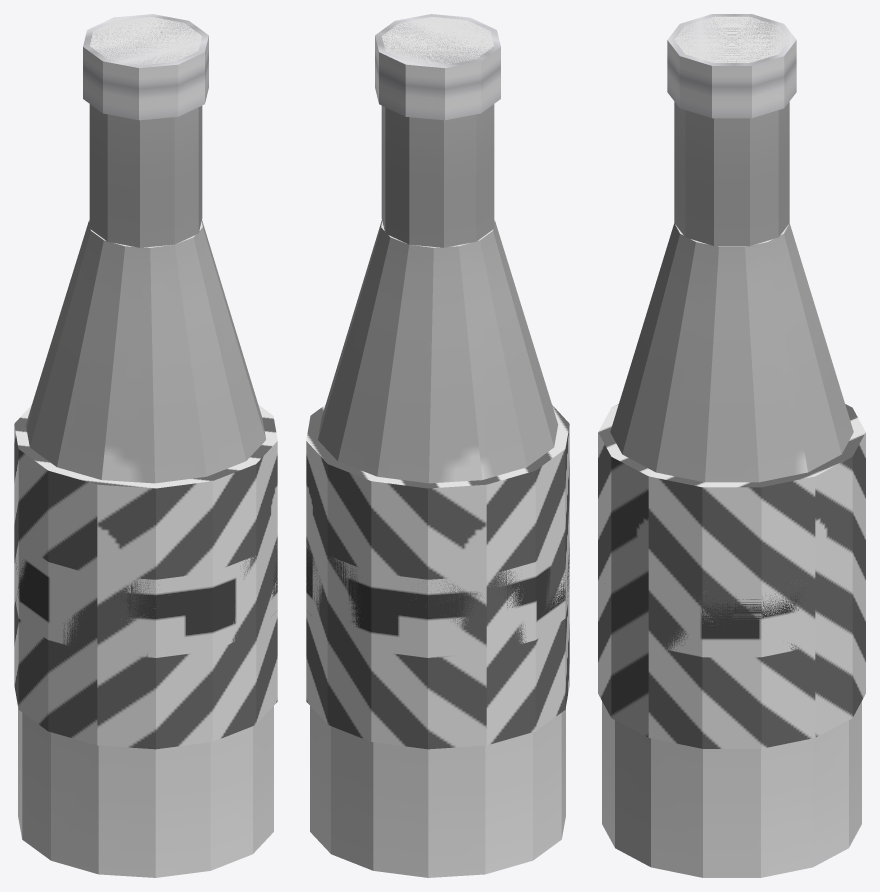
The model's file is amaro.obj.
The picture shows the model from 3 angles, left to right: view 1: azimuth 30°, elevation 25°; view 2: azimuth 150°, elevation 25°; view 3: azimuth 270°, elevation 25°; orthographic projection.
Visible parts, largest first — view 1: amaro; view 2: amaro; view 3: amaro.
Part boxes in pixels (bbox=[...]): amaro: bbox=[14, 14, 277, 877]; amaro: bbox=[306, 14, 569, 877]; amaro: bbox=[598, 14, 865, 877].
Size of the model in its own units: 0.0904 by 0.3 by 0.0928.
4 materials, 4 textured.
